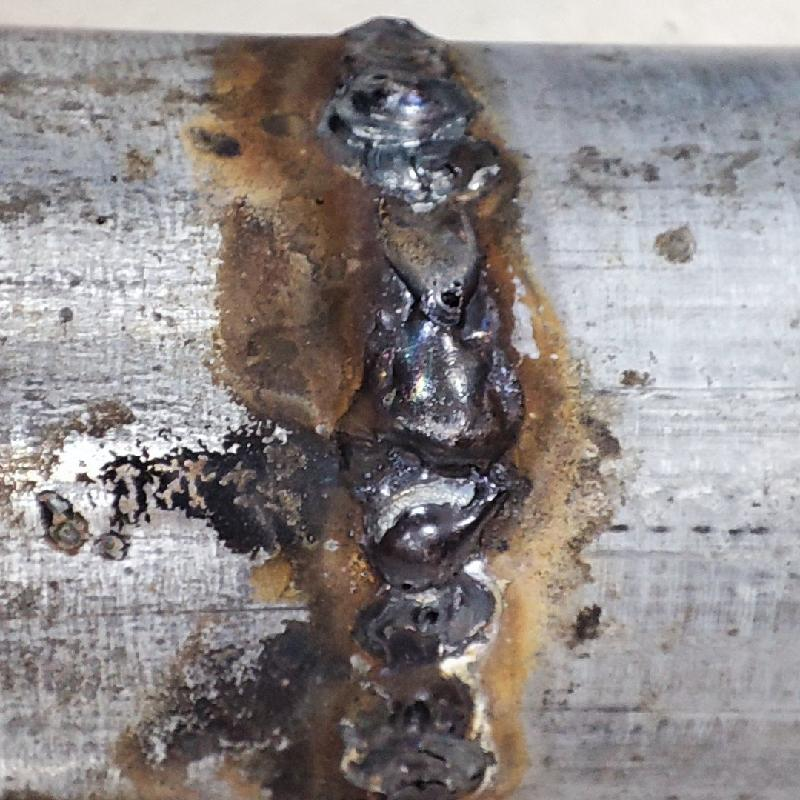Not_fully_soldered: (360, 589, 512, 795), (372, 141, 487, 325)
Surface_pores: (421, 270, 473, 317), (396, 569, 428, 605)
Weld: (358, 326, 515, 595)
wrong_size: (334, 9, 473, 143)
